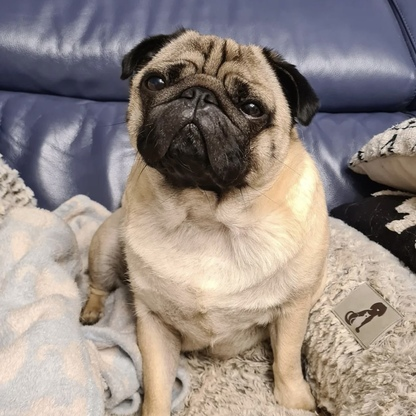Pug: (76, 25, 340, 416)
